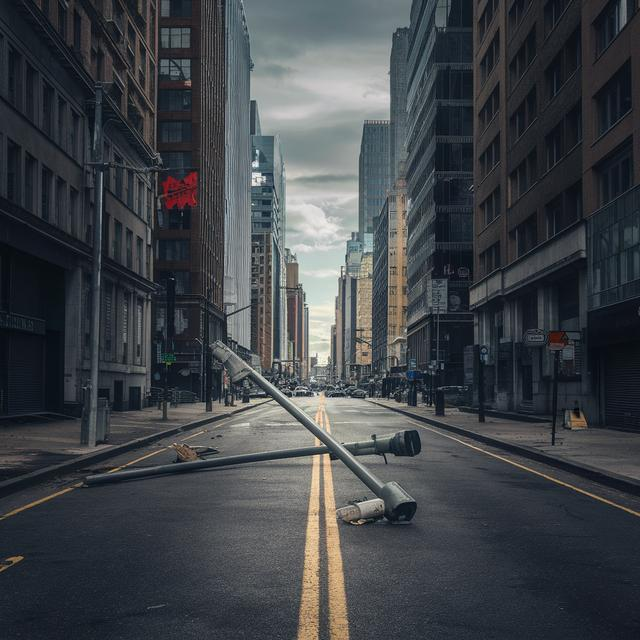Inclined Pole: (205, 335, 418, 530), (82, 425, 426, 489)
